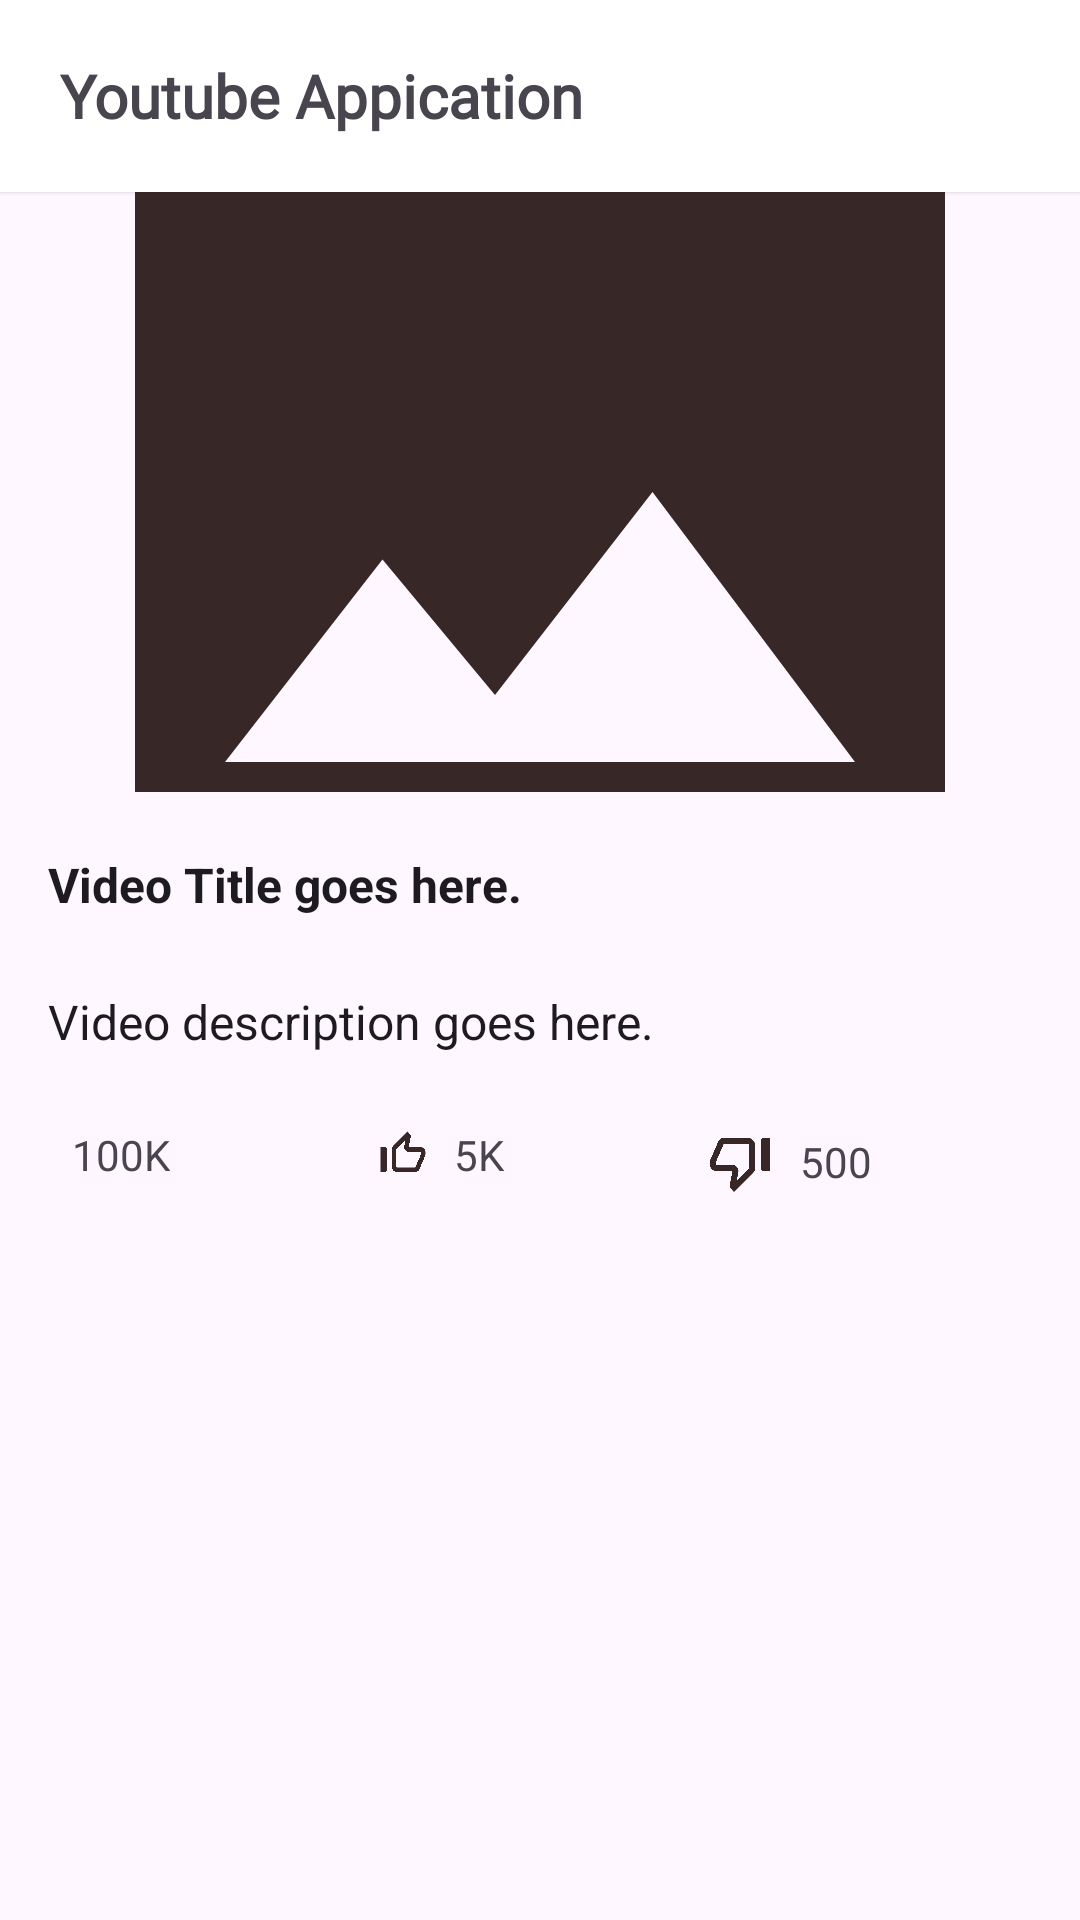

Icons on this 1080×1920 Android screen, each with its box as bbox=[x1, y1, x2, y2]:
thumb down: bbox=[710, 1138, 770, 1192]
thumb up: bbox=[380, 1131, 426, 1172]
